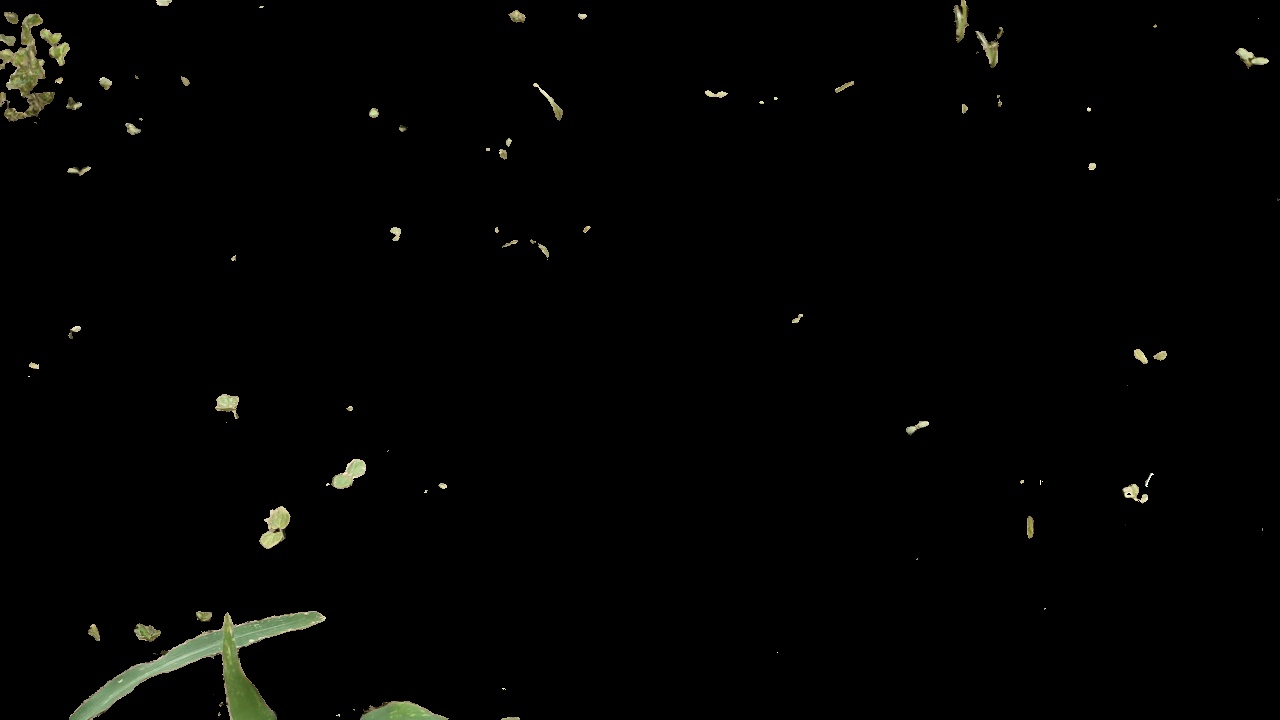crop: (72, 598, 483, 720)
weed: (5, 12, 82, 125), (252, 487, 289, 559), (209, 387, 256, 427), (326, 461, 375, 491), (1125, 475, 1165, 507), (1239, 39, 1273, 72), (1131, 339, 1169, 367), (895, 421, 932, 437)
